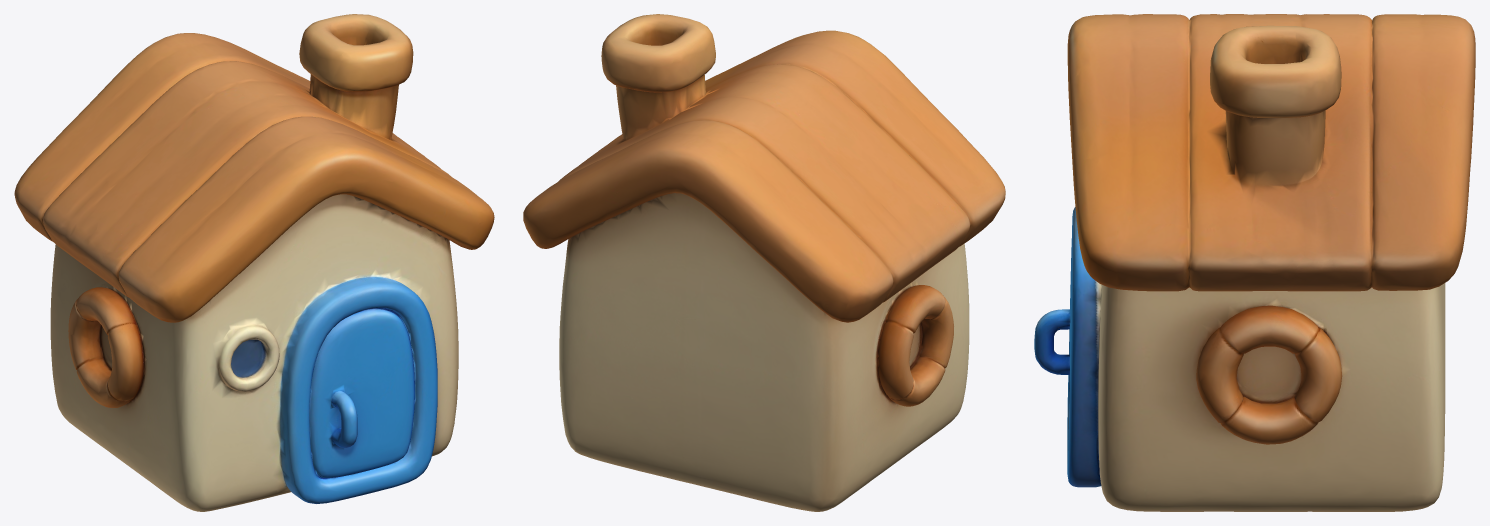
The model's file is harbour-house.glb.
3 views of the same model, side by side, from view 1: azimuth 30°, elevation 25°; view 2: azimuth 150°, elevation 25°; view 3: azimuth 270°, elevation 25° (orthographic). The views are drawn at different scales.
Parts seen in each view (by area): view 1: tripo_node_3b92e52f-d0b6-4ea6-aea6-26c43bd9cc45; view 2: tripo_node_3b92e52f-d0b6-4ea6-aea6-26c43bd9cc45; view 3: tripo_node_3b92e52f-d0b6-4ea6-aea6-26c43bd9cc45.
Boxes of the visible parts, x1,y1,x2,y2 form: tripo_node_3b92e52f-d0b6-4ea6-aea6-26c43bd9cc45: (14, 14, 494, 511); tripo_node_3b92e52f-d0b6-4ea6-aea6-26c43bd9cc45: (523, 14, 1005, 511); tripo_node_3b92e52f-d0b6-4ea6-aea6-26c43bd9cc45: (1034, 14, 1475, 511).
Size of the model in its own units: 0.9426 by 1 by 0.864.
1 material, 1 textured.
